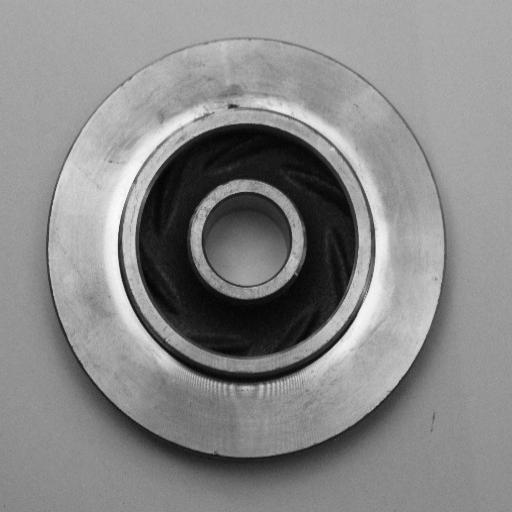crack: (215, 98, 256, 118)
unpolished_casting: (45, 32, 448, 463)
